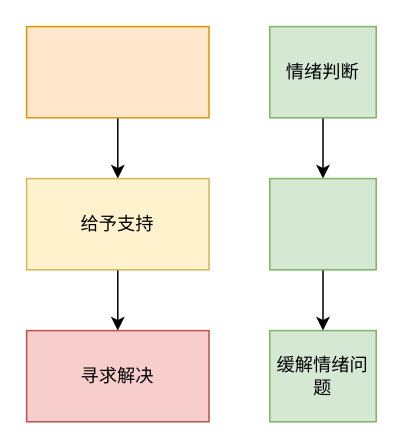
Image size: 403x448. Some labels were removed from this diagram. Here are the shapes that lost their labels. From the top down, the centre of each, then its label:
(117,71): 确认问题
(322,223): 应该表达什么情绪，如何表达？
